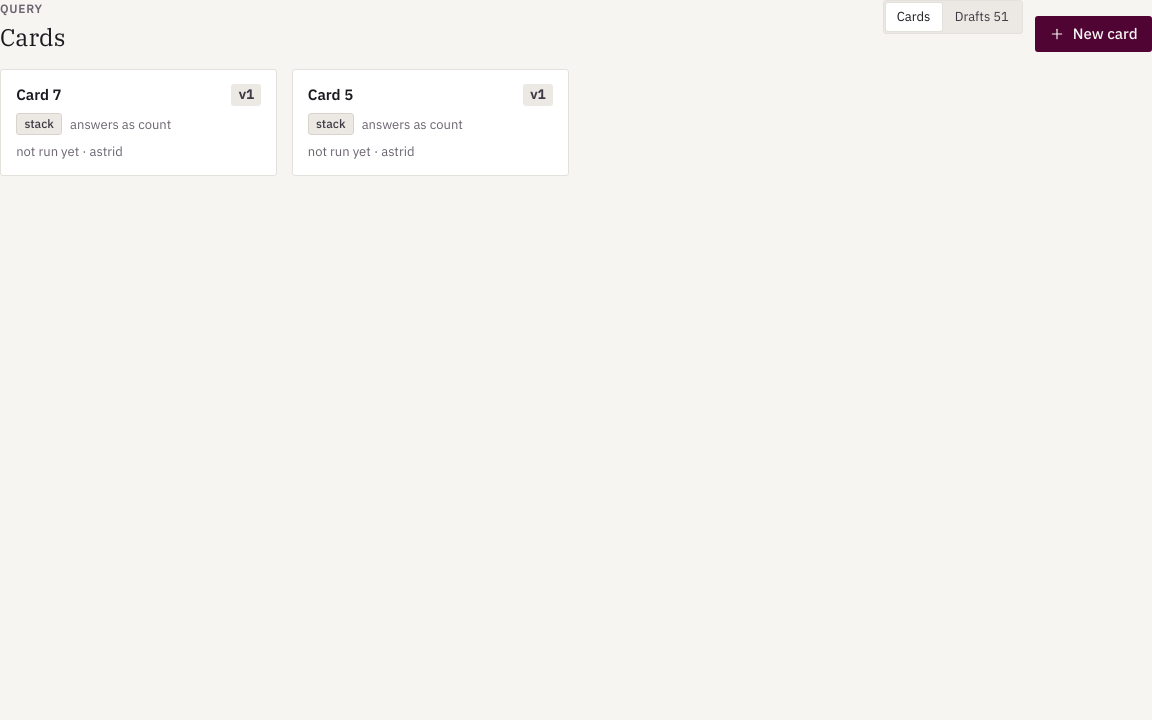
it: the Cards list › lists the kept cards by default and the drafts under their own tab, with how many, fifty at a time
Click the tab "Drafts 51" at {"x": 982, "y": 17}, box [944, 3, 1020, 30]
(page scrolled)
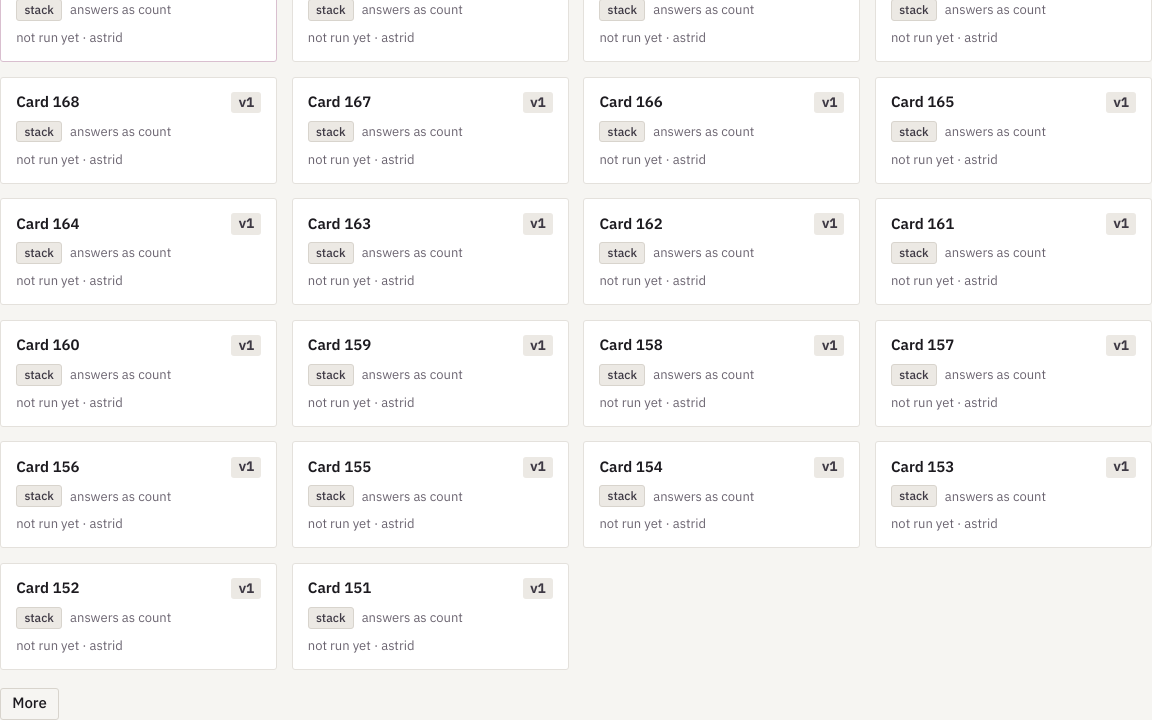
Click the button "More" at {"x": 30, "y": 704}, box [0, 688, 59, 719]
(page scrolled)
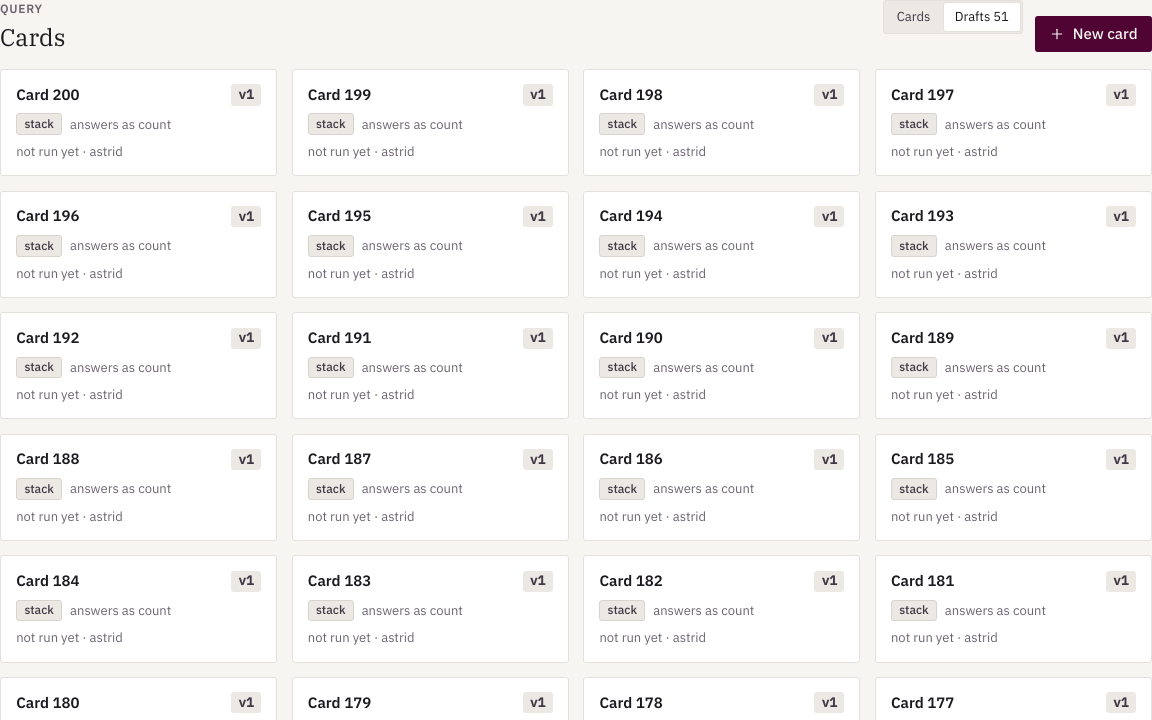
Result: the number of links is 51
// and back to the cards
Click the tab "Cards" at {"x": 914, "y": 17}, box [886, 3, 942, 30]
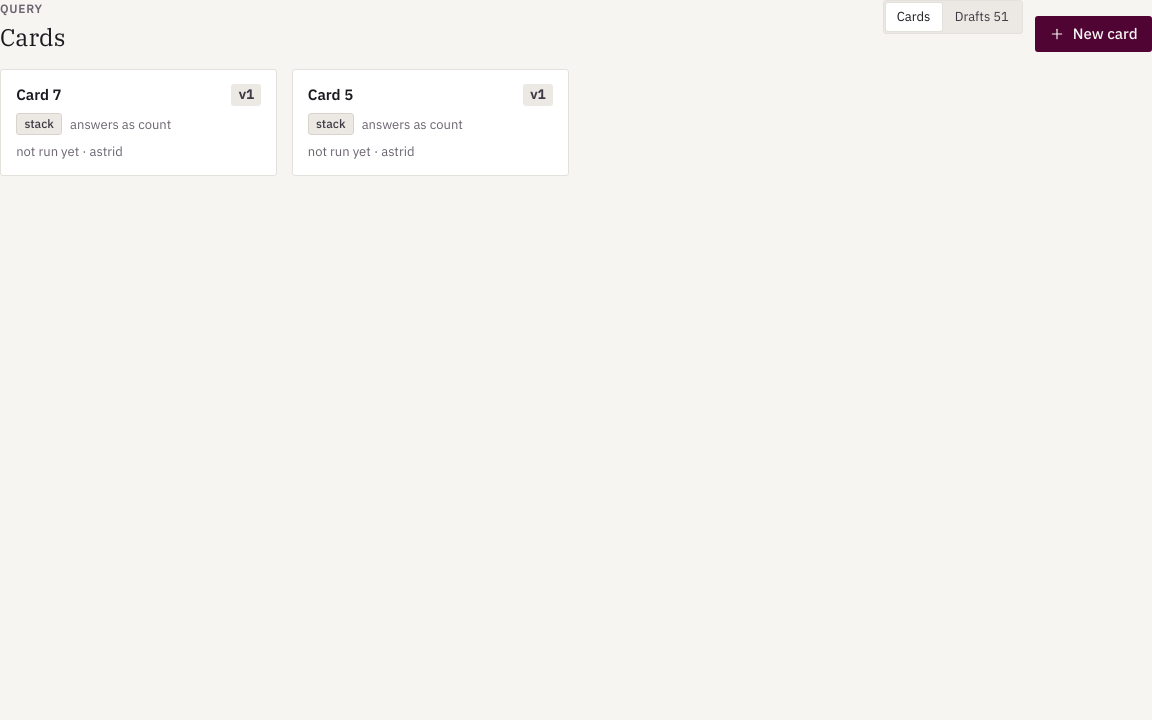
Result: the number of links is 2 at [0, 69, 277, 176]; [292, 69, 569, 176]
